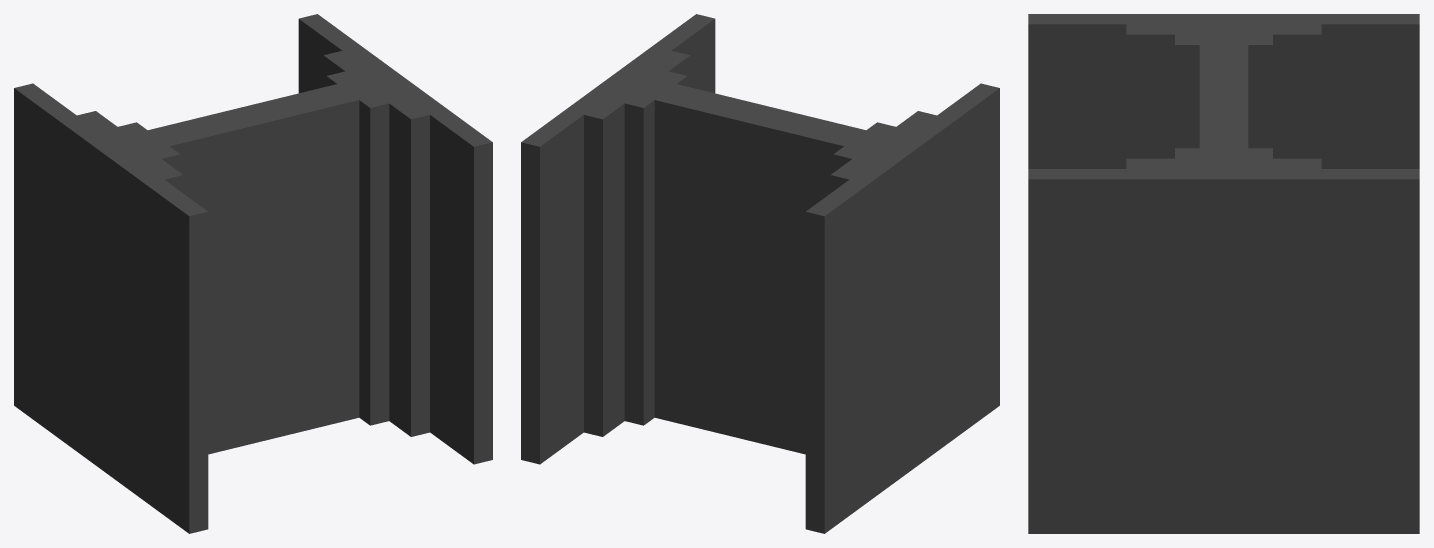
The model's file is hbeam.obj.
3 renders of one model, left to right at view 1: azimuth 30°, elevation 25°; view 2: azimuth 150°, elevation 25°; view 3: azimuth 270°, elevation 25°, orthographic. The views are drawn at different scales.
Bounding box in the file's own units: 1.6 × 1.6 × 1.6.
1 material, 1 textured.
